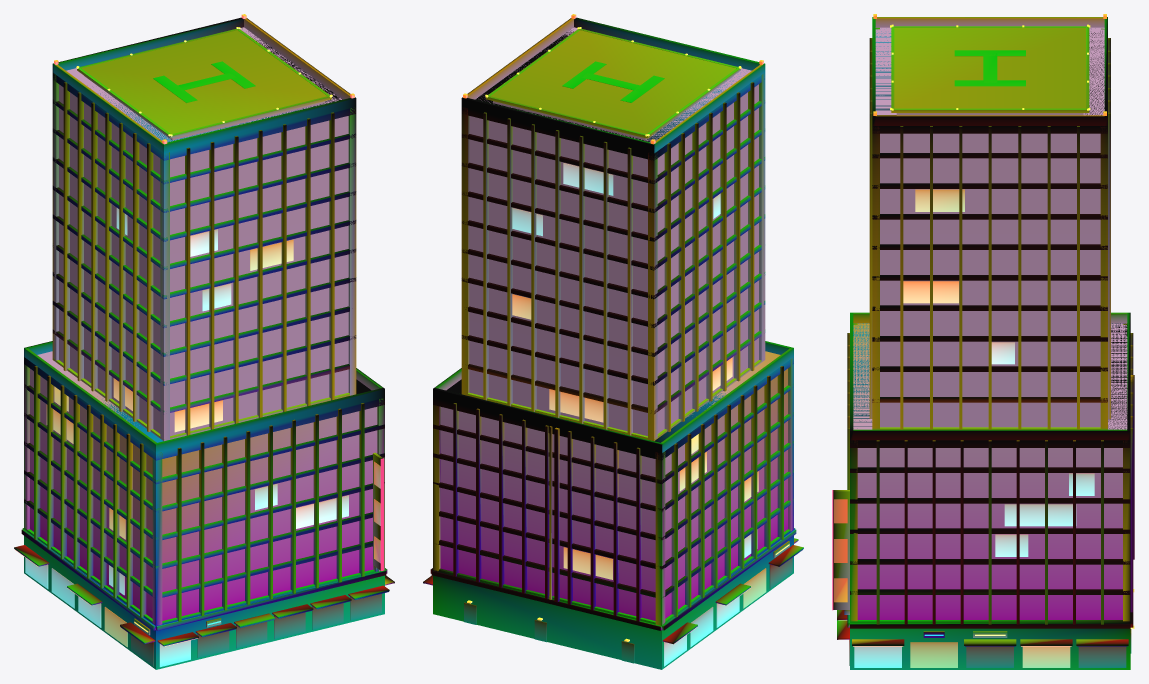
Rendered from Tower_Pad.fbx.
3 views of the same model, side by side, from view 1: azimuth 30°, elevation 25°; view 2: azimuth 150°, elevation 25°; view 3: azimuth 270°, elevation 25° (orthographic). The views are drawn at different scales.
Visible parts, largest first — view 1: Tower_Pad_LOD0; view 2: Tower_Pad_LOD0; view 3: Tower_Pad_LOD0.
Part boxes in pixels (bbox=[...]): Tower_Pad_LOD0: bbox=[14, 14, 394, 669]; Tower_Pad_LOD0: bbox=[423, 14, 803, 669]; Tower_Pad_LOD0: bbox=[832, 14, 1134, 669].
Size of what is drawn, in the model's own units: 32.8 by 64.6 by 32.31.
